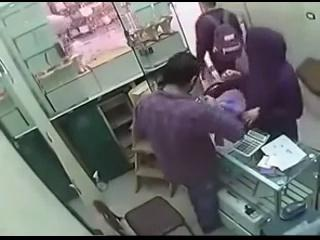Normal: (131, 51, 255, 232), (202, 20, 304, 142), (92, 196, 194, 236), (232, 128, 271, 158)
